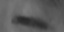RightEyeFatigue: (3, 5, 59, 32)
